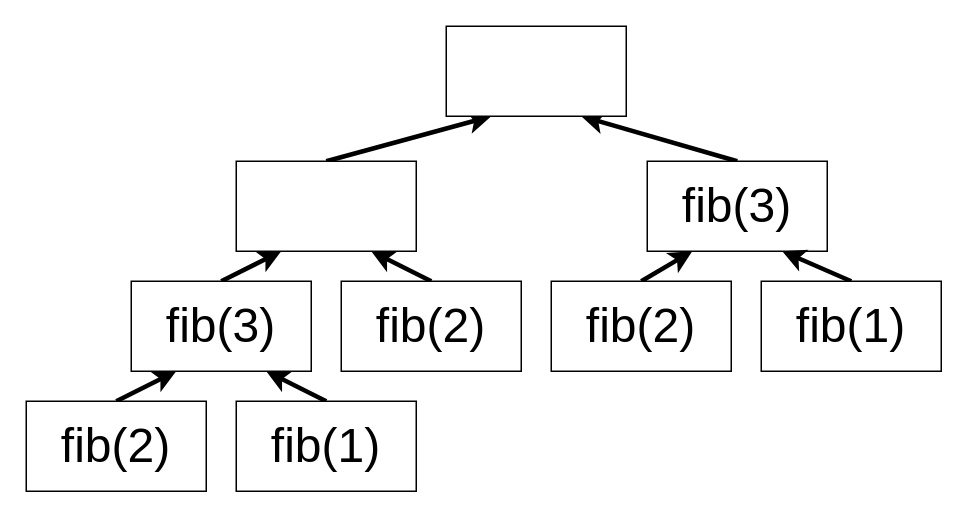
Image size: 968x518. Some labels were removed from this diagram. The shapes that lost their labels are listed below. From the top down, each one's box as (x1, y1, x2, y2) in pixels, then its label:
(445, 25, 626, 116): fib(5)
(235, 160, 416, 251): fib(4)
